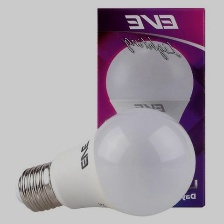carton: (93, 4, 211, 211)
light_bulb: (11, 106, 198, 218)
